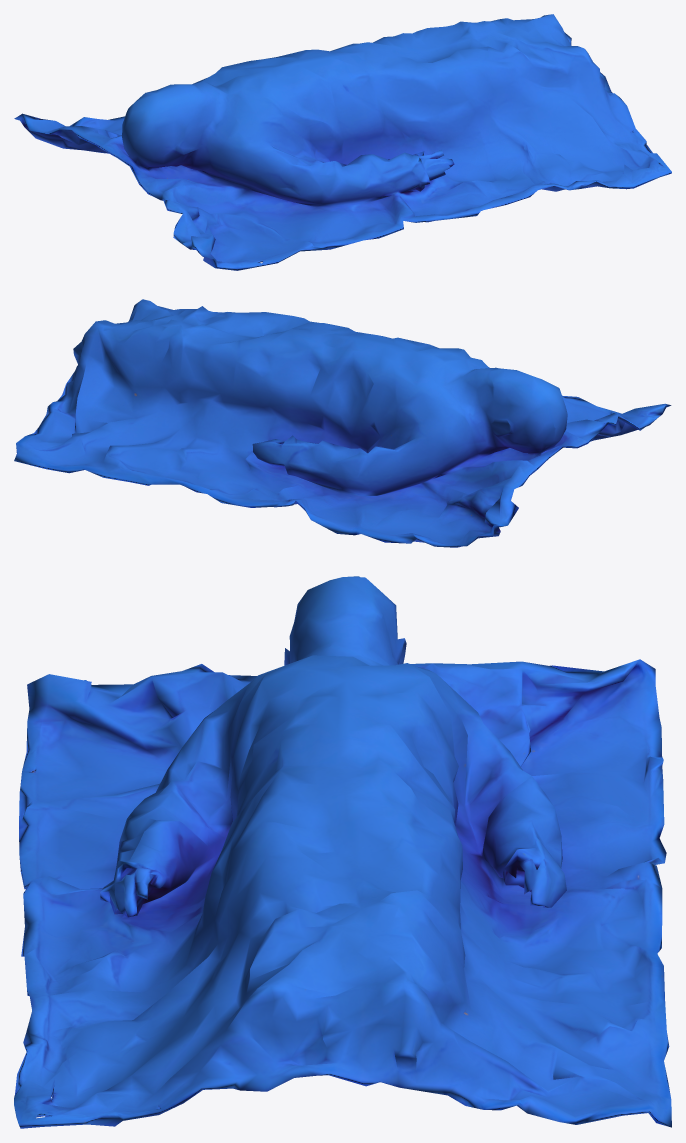
The picture shows the model from 3 angles, top to bottom: view 1: azimuth 30°, elevation 25°; view 2: azimuth 150°, elevation 25°; view 3: azimuth 270°, elevation 25°; orthographic projection. The views are drawn at different scales.
Parts seen in each view (by area): view 1: tripo_node_77cc4115-2095-48ab-91ed-e476ecf95bcb; view 2: tripo_node_77cc4115-2095-48ab-91ed-e476ecf95bcb; view 3: tripo_node_77cc4115-2095-48ab-91ed-e476ecf95bcb.
Part boxes in pixels (left/top/right/bottom): tripo_node_77cc4115-2095-48ab-91ed-e476ecf95bcb: left=14, top=14, right=671, bottom=270; tripo_node_77cc4115-2095-48ab-91ed-e476ecf95bcb: left=14, top=299, right=671, bottom=547; tripo_node_77cc4115-2095-48ab-91ed-e476ecf95bcb: left=14, top=576, right=671, bottom=1128.
Size of the model in its own units: 1 by 0.2338 by 0.6775.
1 material, 1 textured.
